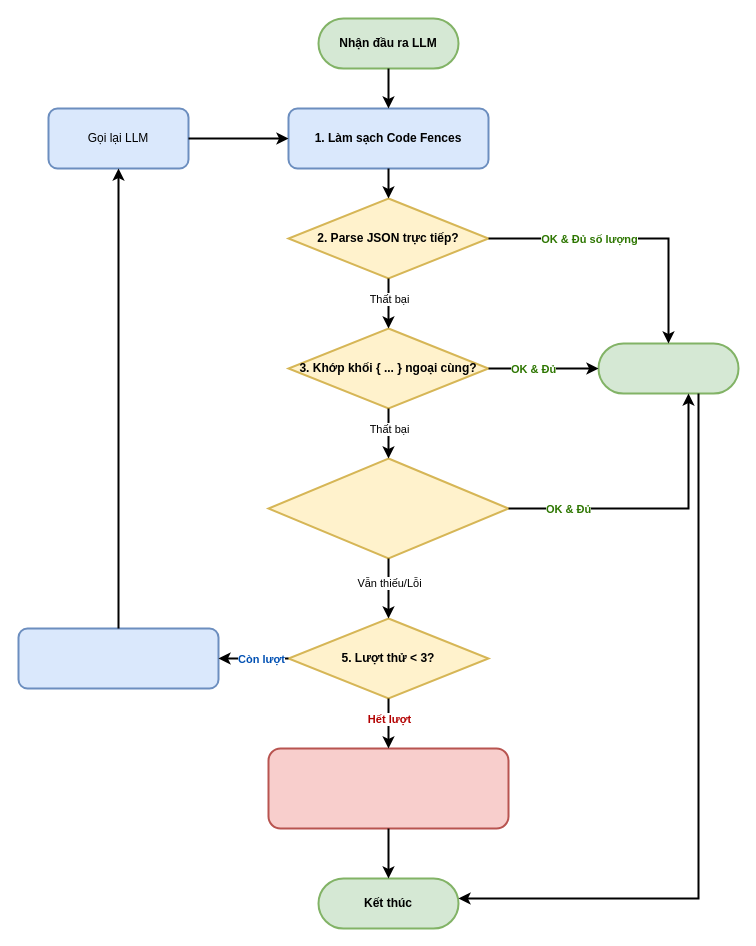
Some shapes in this 756 by 946 pixel diagram are drawn without their labels. Here are the shapes that lost their labels. From the top down, the centre of each, then its label:
At point 668,368: "Thành công".
At point 388,508: "4. Trích xuất mảng con & Tự động đóng ngoặc?".
At point 118,658: "6. Thêm chỉ dẫn cảnh báo vào Prompt".
At point 388,788: "7. Trả về kết quả tối đa cứu vãn được + Kèm theo cảnh báo Warning".
